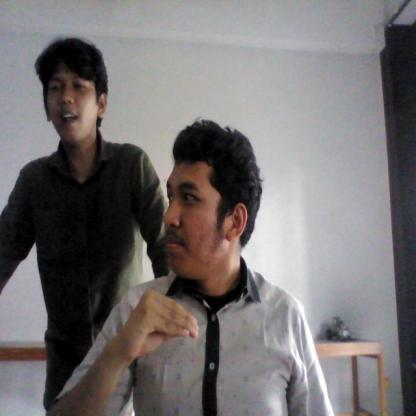Malam: (110, 283, 204, 372)
